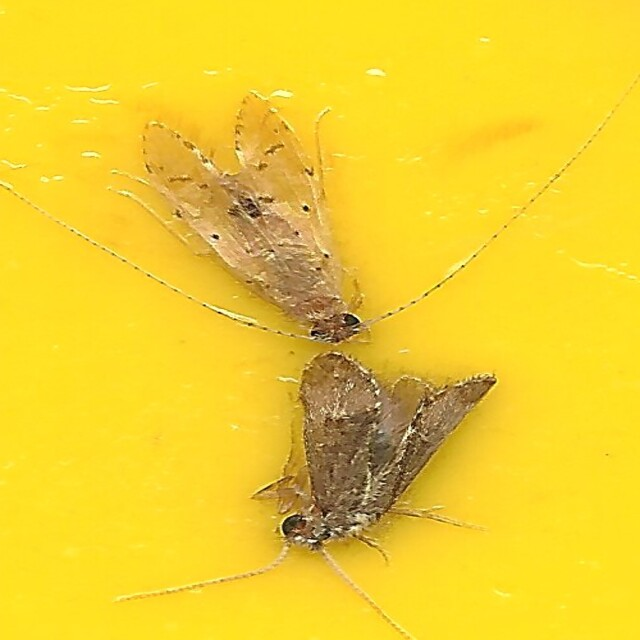Plecoptera: (128, 92, 372, 348)
Trichoptera: (261, 349, 512, 548)
